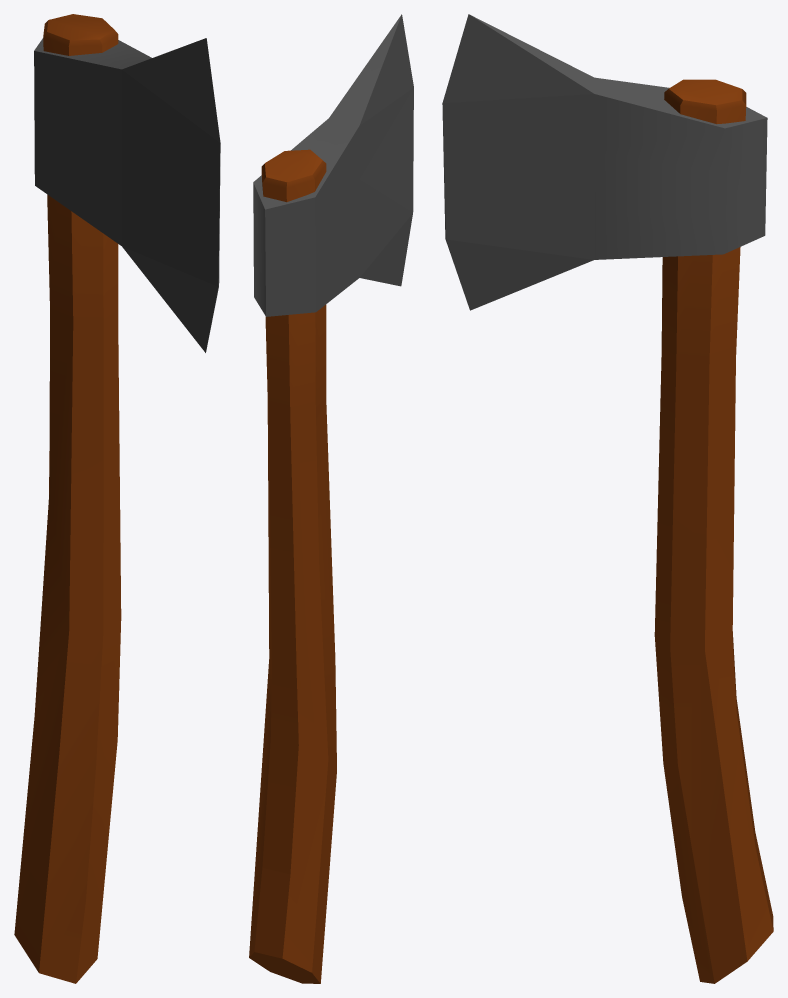
The model's file is Axe1.obj.
The picture shows the model from 3 angles, left to right: view 1: azimuth 30°, elevation 25°; view 2: azimuth 150°, elevation 25°; view 3: azimuth 270°, elevation 25°; orthographic projection. The views are drawn at different scales.
Parts seen in each view (by area): view 1: Handle001, Axehead; view 2: Handle001, Axehead; view 3: Axehead, Handle001.
Boxes of the visible parts, x1,y1,x2,y2 form: Handle001: [14, 14, 121, 983]; Axehead: [34, 38, 220, 352]; Handle001: [249, 149, 336, 983]; Axehead: [253, 14, 413, 316]; Axehead: [442, 14, 767, 310]; Handle001: [654, 79, 773, 983].
Bounding box in the file's own units: 38.47 × 475 × 147.
